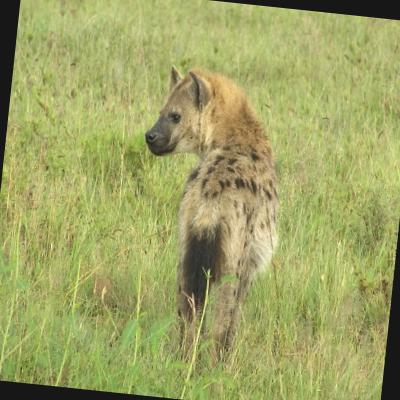hyenas: (81, 25, 321, 400)
